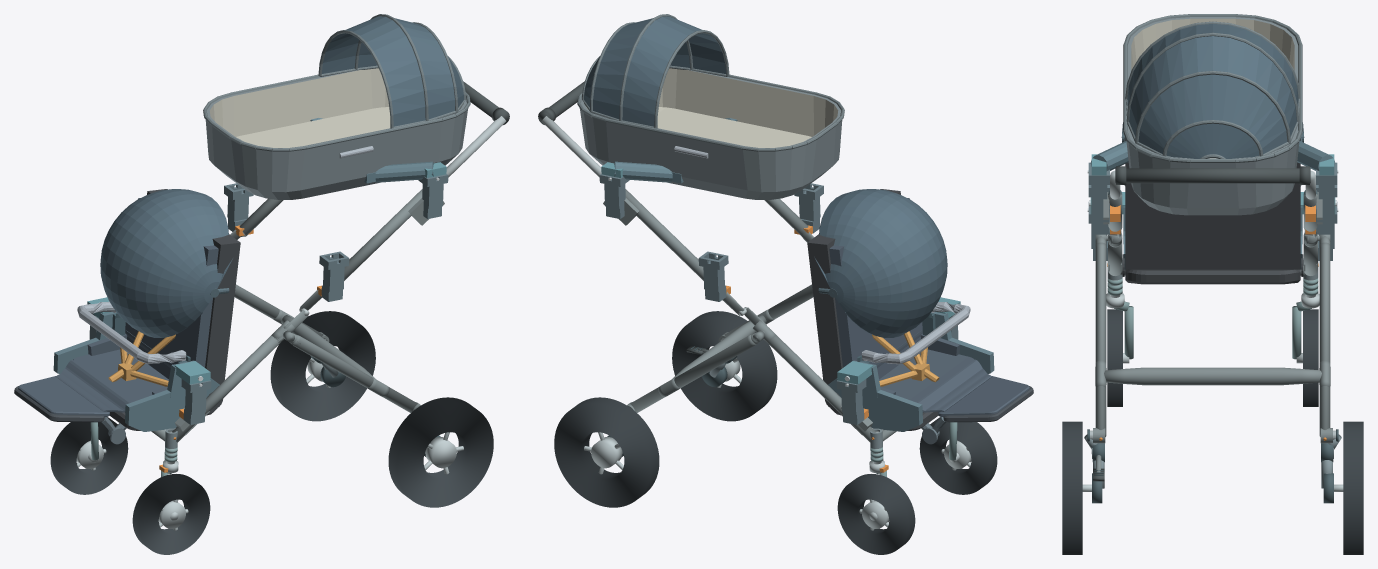
File: D05_w550_state1_wheel_M.glb
The picture shows the model from 3 angles, left to right: view 1: azimuth 30°, elevation 25°; view 2: azimuth 150°, elevation 25°; view 3: azimuth 270°, elevation 25°; orthographic projection. The views are drawn at different scales.
Parts seen in each view (by area): view 1: D05_Upper, D05_Lower, RL_tire.002, RR_tire.002, FL_tire.002, D05_Lower_Mount_L, FR_tire.002, V46_rear_leg_-1.003, main_lower_-1.003, D05_Upper_Mount_H, main_upper_-1.003, Universal_Cabin_Receiver_M_-1 (+7 smaller); view 2: D05_Upper, D05_Lower, RR_tire.002, RL_tire.002, FR_tire.002, D05_Lower_Mount_L, FL_tire.002, V46_rear_leg_1.003, main_lower_1.003, D05_Upper_Mount_H, main_upper_1.003, Universal_Cabin_Receiver_M_1 (+7 smaller); view 3: D05_Upper, D05_Lower, V46_rearbar.003, round_handle.002, RL_tire.002, RR_tire.002, V46_rear_leg_1.003, V46_rear_leg_-1.003, D05_Upper_Mount_H, FL_tire.002, FR_tire.002, Universal_Cabin_Receiver_H_1 (+6 smaller).
Part boxes in pixels (bbox=[...]): D05_Upper: bbox=[203, 14, 470, 199]; D05_Lower: bbox=[14, 189, 240, 444]; RL_tire.002: bbox=[388, 397, 493, 507]; RR_tire.002: bbox=[270, 311, 375, 421]; FL_tire.002: bbox=[132, 474, 210, 554]; D05_Lower_Mount_L: bbox=[53, 297, 219, 431]; FR_tire.002: bbox=[50, 417, 128, 494]; V46_rear_leg_-1.003: bbox=[291, 335, 417, 412]; main_lower_-1.003: bbox=[172, 335, 283, 442]; D05_Upper_Mount_H: bbox=[310, 118, 446, 183]; main_upper_-1.003: bbox=[321, 189, 422, 286]; Universal_Cabin_Receiver_M_-1: bbox=[319, 251, 349, 301]; D05_Upper: bbox=[577, 14, 844, 199]; D05_Lower: bbox=[807, 189, 1033, 444]; RR_tire.002: bbox=[554, 397, 659, 507]; RL_tire.002: bbox=[672, 311, 777, 421]; FR_tire.002: bbox=[837, 474, 915, 554]; D05_Lower_Mount_L: bbox=[828, 297, 994, 431]; FL_tire.002: bbox=[919, 417, 997, 494]; V46_rear_leg_1.003: bbox=[630, 335, 756, 412]; main_lower_1.003: bbox=[764, 335, 875, 442]; D05_Upper_Mount_H: bbox=[601, 118, 737, 183]; main_upper_1.003: bbox=[625, 189, 726, 286]; Universal_Cabin_Receiver_M_1: bbox=[698, 251, 728, 301]; D05_Upper: bbox=[1123, 14, 1302, 215]; D05_Lower: bbox=[1121, 122, 1304, 284]; V46_rearbar.003: bbox=[1104, 367, 1321, 385]; round_handle.002: bbox=[1115, 168, 1310, 183]; RL_tire.002: bbox=[1062, 421, 1082, 554]; RR_tire.002: bbox=[1343, 421, 1363, 554]; V46_rear_leg_1.003: bbox=[1319, 242, 1330, 436]; V46_rear_leg_-1.003: bbox=[1095, 242, 1106, 436]; D05_Upper_Mount_H: bbox=[1087, 141, 1338, 175]; FL_tire.002: bbox=[1107, 309, 1122, 406]; FR_tire.002: bbox=[1303, 309, 1318, 406]; Universal_Cabin_Receiver_H_1: bbox=[1316, 162, 1337, 222].
Size of the model in its own units: 1.35 by 1.3 by 0.6771.
